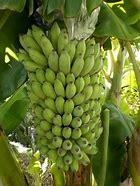banana: (17, 28, 109, 168), (24, 75, 105, 168), (10, 25, 106, 74), (29, 108, 100, 169)
